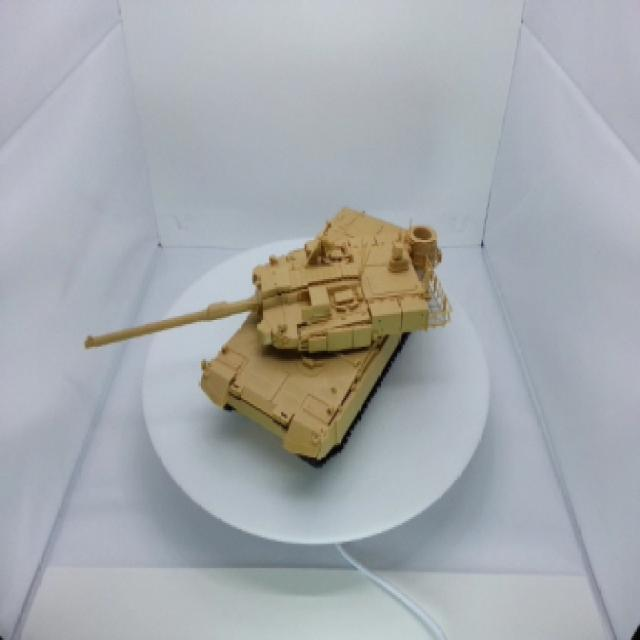korea tank: (74, 178, 466, 491)
